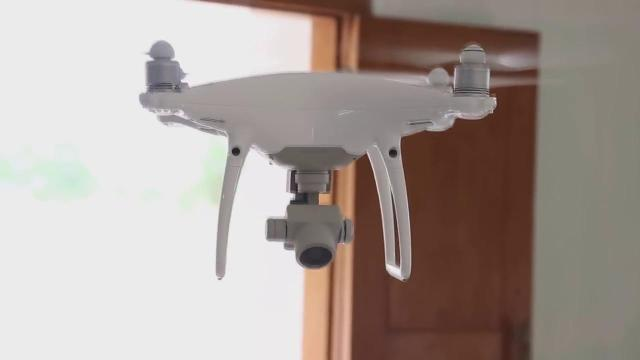drone: (0, 23, 640, 310)
